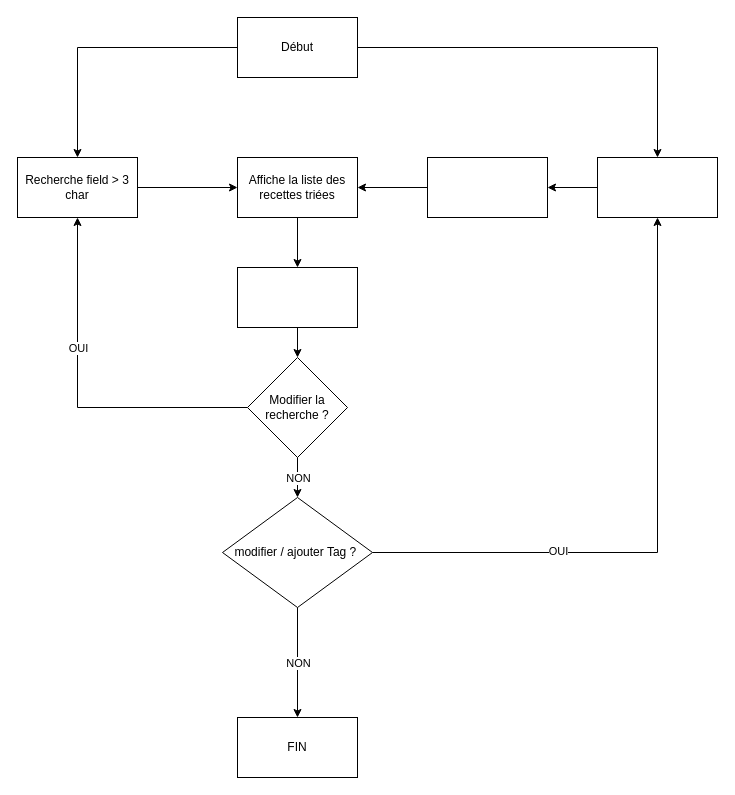
Image size: 735x795. Some labels were removed from this diagram. Each missing label, with the box of its shape:
Affichage du tag: (426, 156, 548, 218)
Afficher que les tags lié aux recettes restantes: (236, 266, 358, 328)
Séléction d'un tag: (596, 156, 718, 218)
